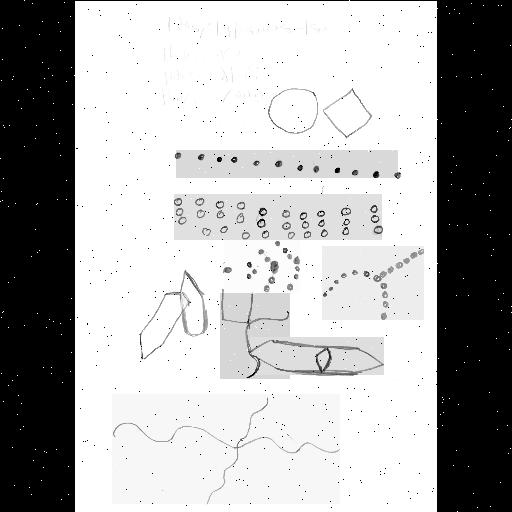shape-1: (270, 88, 372, 136)
shape-2: (176, 150, 398, 178)
shape-3: (174, 194, 382, 240)
shape-4: (224, 240, 300, 294)
shape-5: (220, 293, 290, 379)
shape-6: (322, 246, 424, 320)
shape-7: (112, 394, 340, 504)
shape-8: (141, 270, 207, 360)
shape-9: (250, 337, 384, 375)
